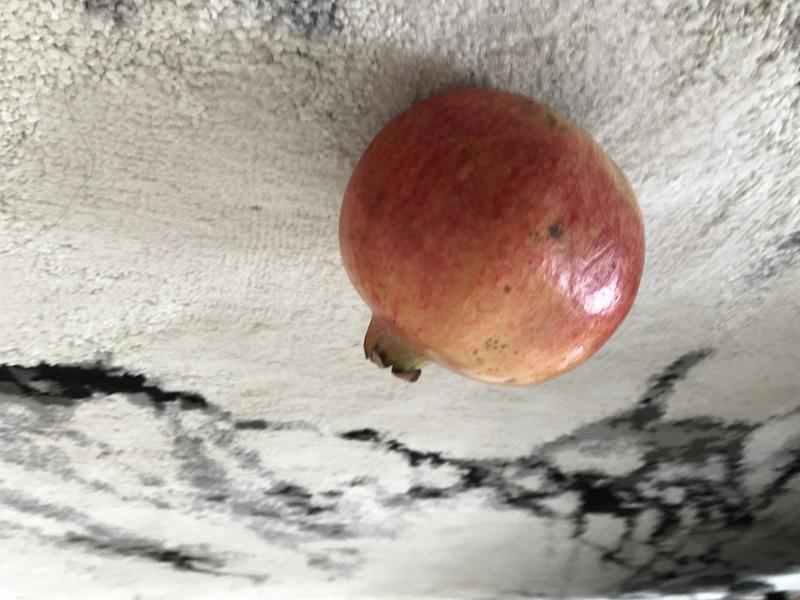pomegranate: (333, 80, 657, 404)
